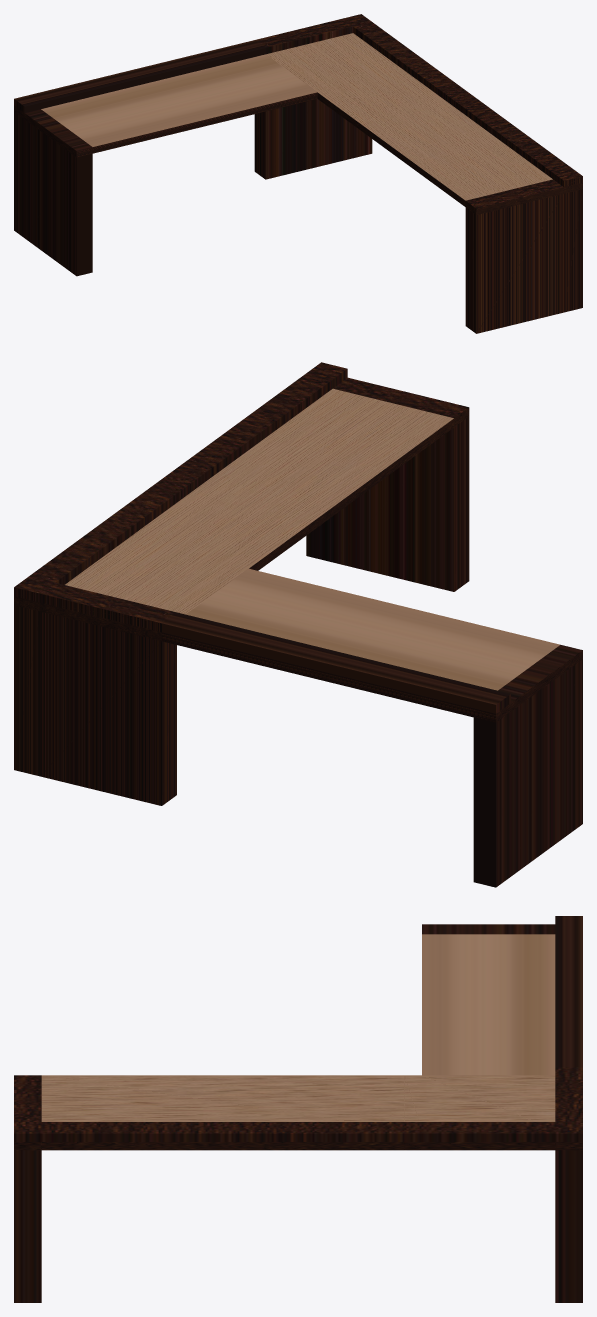
The model's file is MEJA L.fbx.
The picture shows the model from 3 angles, top to bottom: view 1: azimuth 30°, elevation 25°; view 2: azimuth 150°, elevation 25°; view 3: azimuth 270°, elevation 25°; orthographic projection. The views are drawn at different scales.
Visible parts, largest first — view 1: Cube.008; view 2: Cube.008; view 3: Cube.008.
Part boxes in pixels (x1=…): Cube.008: x1=14, y1=14, x2=582, y2=333; Cube.008: x1=14, y1=362, x2=582, y2=887; Cube.008: x1=14, y1=916, x2=582, y2=1302.
Bounding box in the file's own units: 309 × 112 × 341.
Materials: 2 (2 with a texture image).
